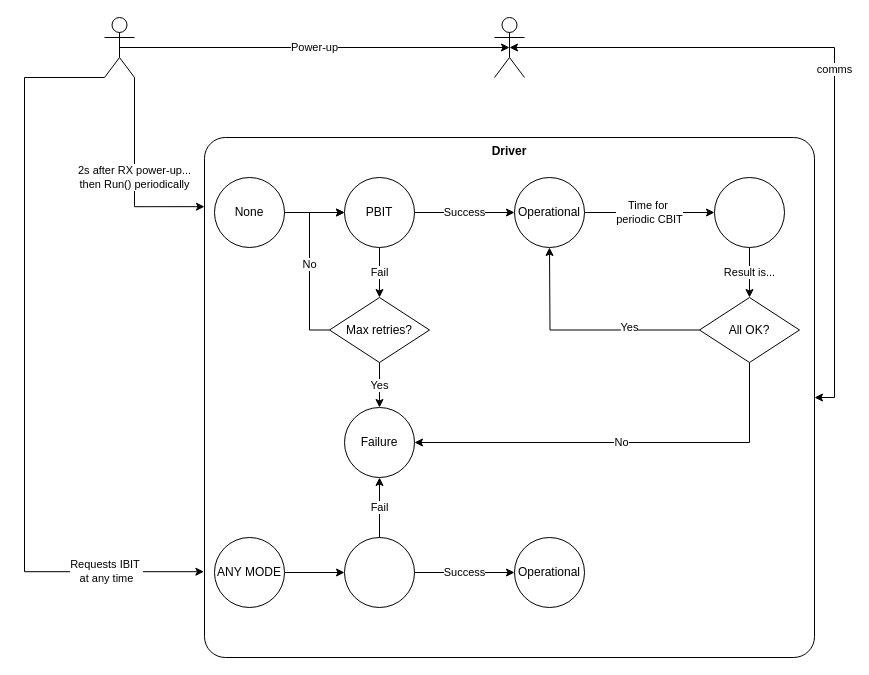
Image size: 869x675. Some labels were removed from this diagram. The centre of each missing label's shape, as x and y in pixels:
"CBIT" goes at [749,212].
"Driver owner/caller" goes at [119,47].
"IBIT" goes at [379,572].
"Ublox M9 RX" goes at [509,47].
